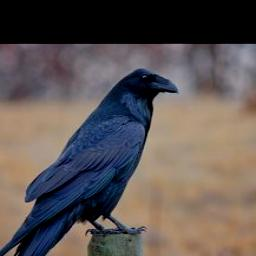Crow: (0, 65, 182, 256)
